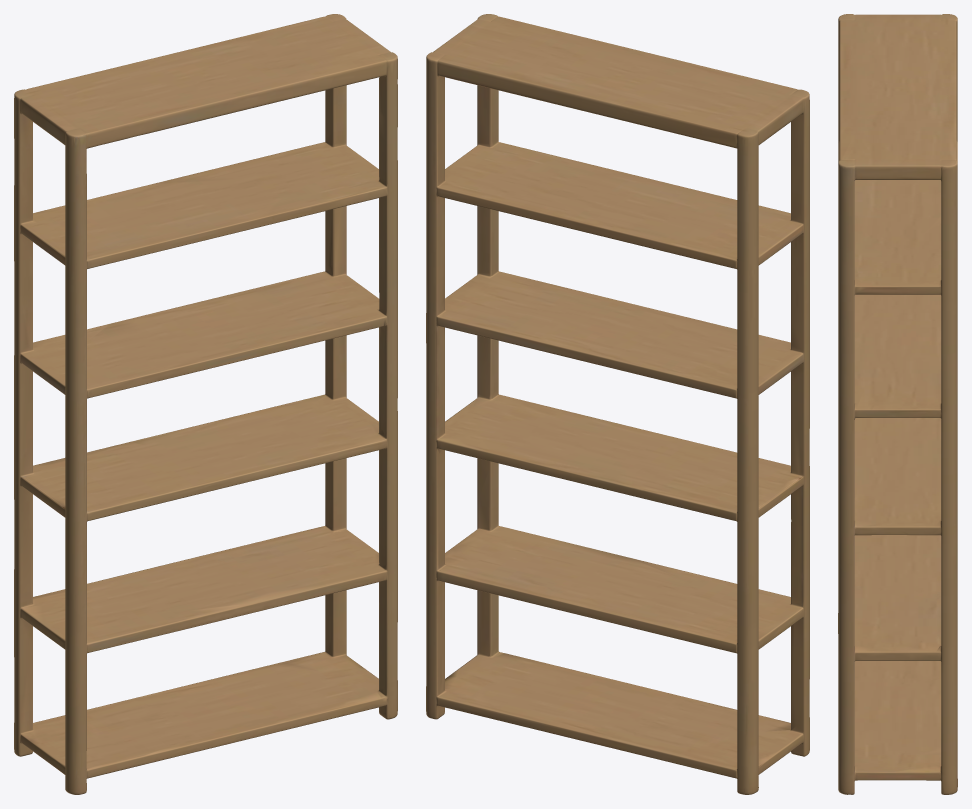
The picture shows the model from 3 angles, left to right: view 1: azimuth 30°, elevation 25°; view 2: azimuth 150°, elevation 25°; view 3: azimuth 270°, elevation 25°; orthographic projection. The views are drawn at different scales.
Parts seen in each view (by area): view 1: material; view 2: material; view 3: material.
Part boxes in pixels (box(x1,y1,x2,y2)): material: box(14, 14, 397, 794); material: box(426, 14, 809, 794); material: box(838, 14, 957, 794).
Bounding box in the file's own units: 0.5514 × 1.06 × 0.1821.
1 material, 1 textured.
